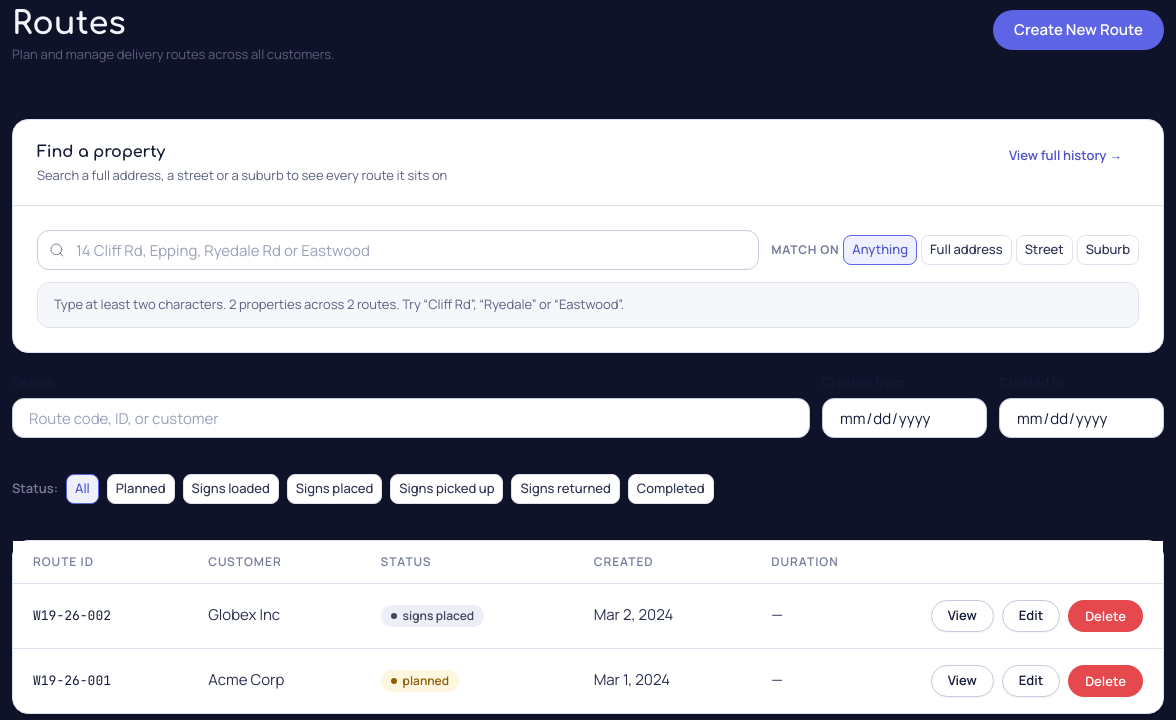
Test: Operator Routes List Page › search and date filters › narrows results by route code search
Expected: the text "W19-26-001" is shown, [33,672,111,690]
Type "26-002" into the search field labelled "Search" at point(411, 418), box [12,398,810,438]
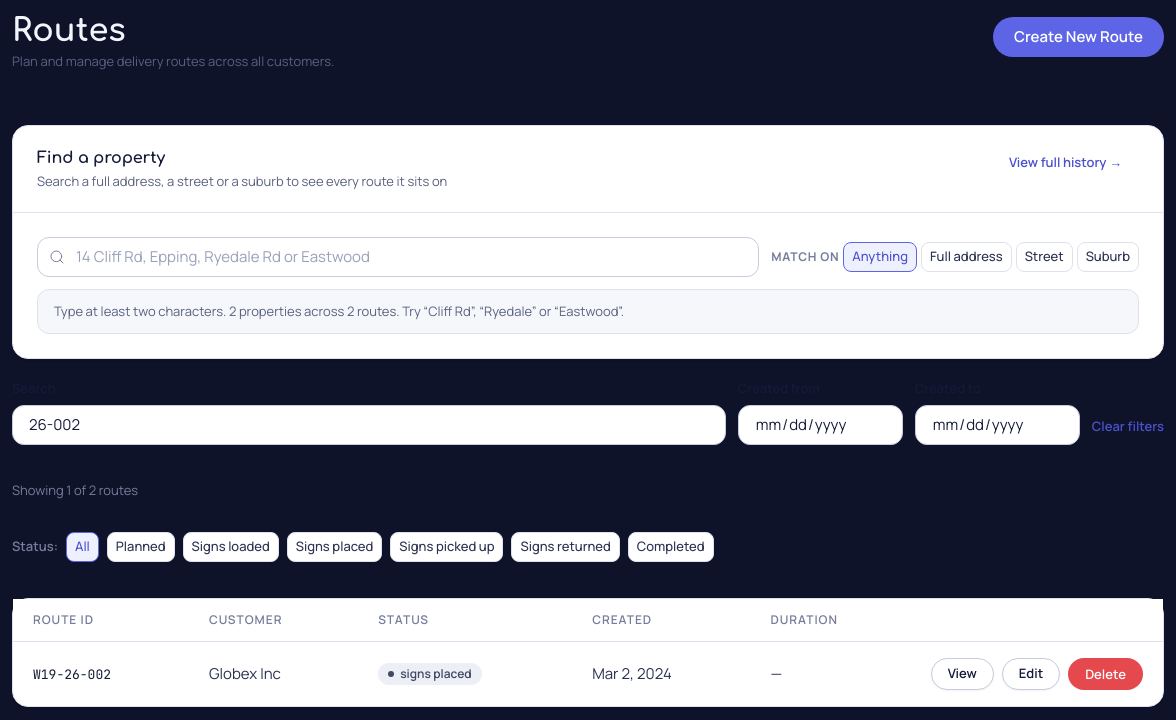
Expected: the text "W19-26-002" is shown, [33,666,111,683]
Result: the text "W19-26-001" is gone
